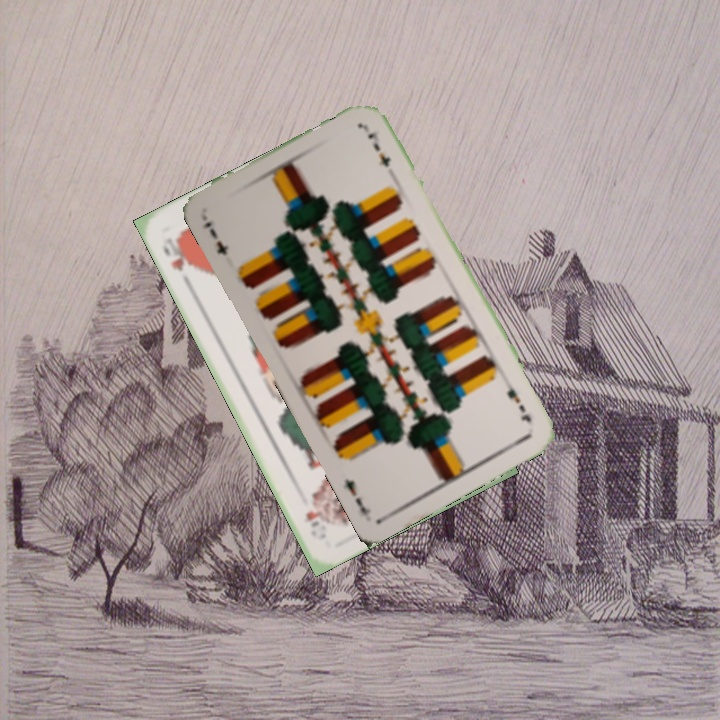E7: (500, 375, 535, 426), (199, 217, 232, 258)
HO: (158, 233, 194, 274)
